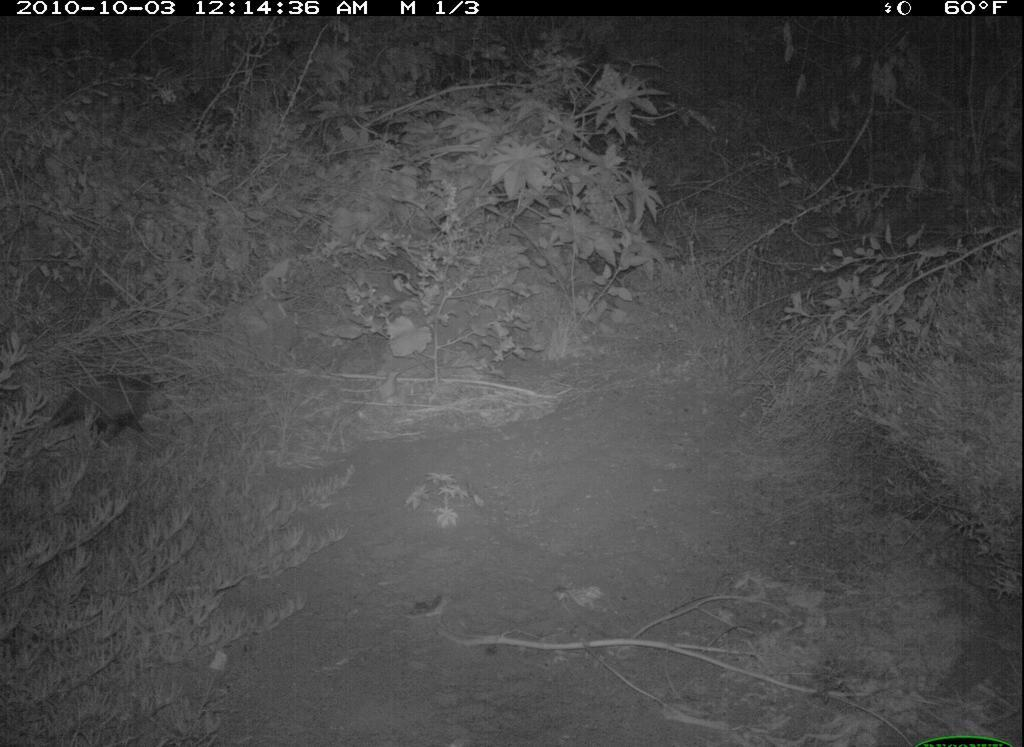opossum: (26, 367, 170, 444)
